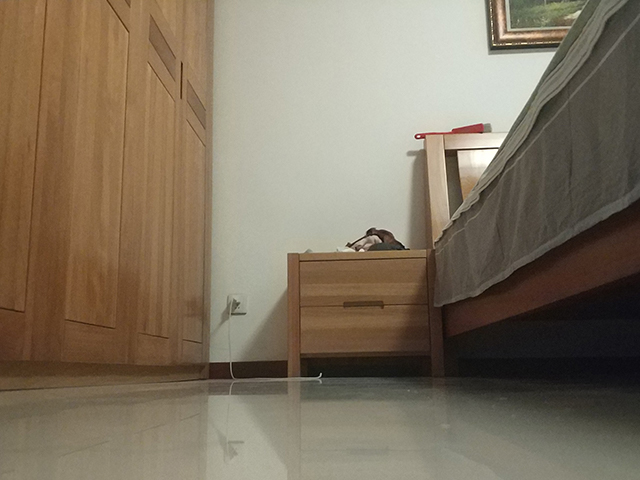bed: (422, 1, 640, 381)
cabinet: (1, 1, 217, 393), (285, 247, 448, 380)
wire: (226, 298, 324, 382)
